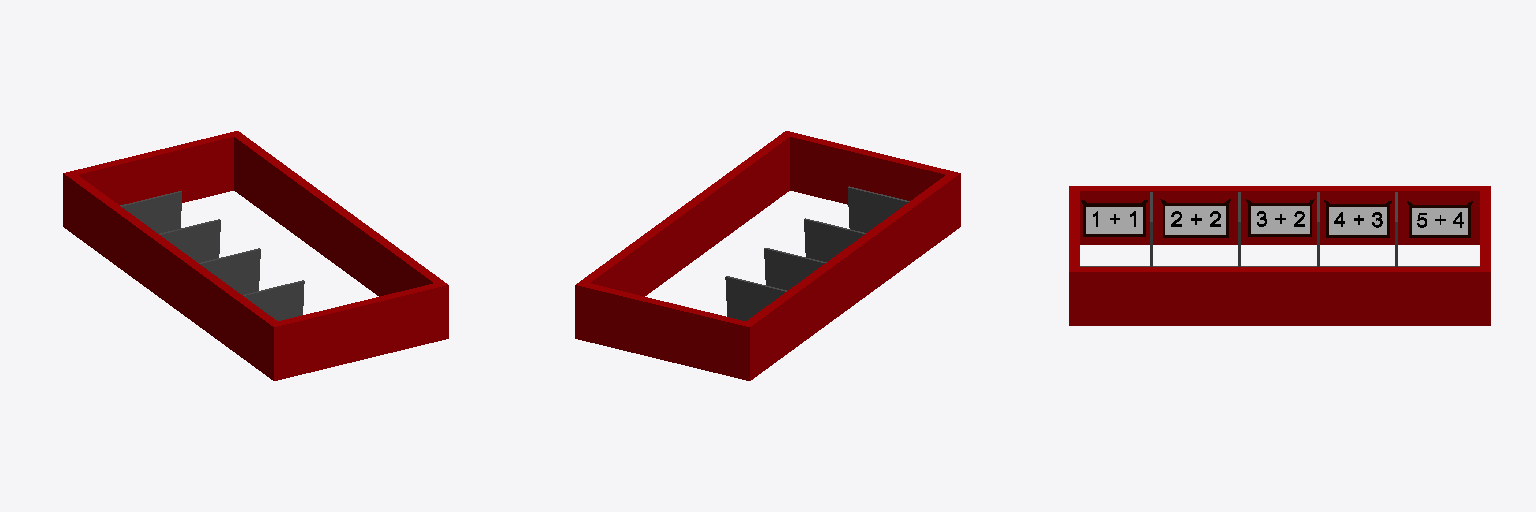
Rendered from wallnew.obj.
3 views of the same model, side by side, from view 1: azimuth 30°, elevation 25°; view 2: azimuth 150°, elevation 25°; view 3: azimuth 270°, elevation 25° (orthographic).
Parts seen in each view (by area): view 1: Cube_Cube.001, Plane.001_Plane.004, Plane.002_Plane.005, Plane.004_Plane.007, Plane_Plane.002; view 2: Cube_Cube.001, Plane_Plane.002, Plane.004_Plane.007, Plane.001_Plane.004, Plane.002_Plane.005; view 3: Cube_Cube.001, Cube.004, Cube.010, Cube.007, Cube.013, Cube.016.
Part boxes in pixels (x1,y1,x2,y2): Cube_Cube.001: (63, 131, 448, 380); Plane.001_Plane.004: (199, 248, 260, 294); Plane.002_Plane.005: (159, 219, 220, 262); Plane.004_Plane.007: (120, 191, 181, 233); Plane_Plane.002: (243, 280, 304, 320); Cube_Cube.001: (575, 131, 960, 380); Plane_Plane.002: (848, 186, 909, 232); Plane.004_Plane.007: (725, 276, 786, 320); Plane.001_Plane.004: (804, 218, 865, 261); Plane.002_Plane.005: (764, 248, 826, 290); Cube_Cube.001: (1069, 186, 1490, 325); Cube.004: (1165, 206, 1225, 234); Cube.010: (1251, 206, 1309, 233); Cube.007: (1086, 207, 1142, 233); Cube.013: (1329, 207, 1386, 234); Cube.016: (1412, 208, 1467, 234).
Size of the model in its own units: 10.78 by 3.18 by 22.54.